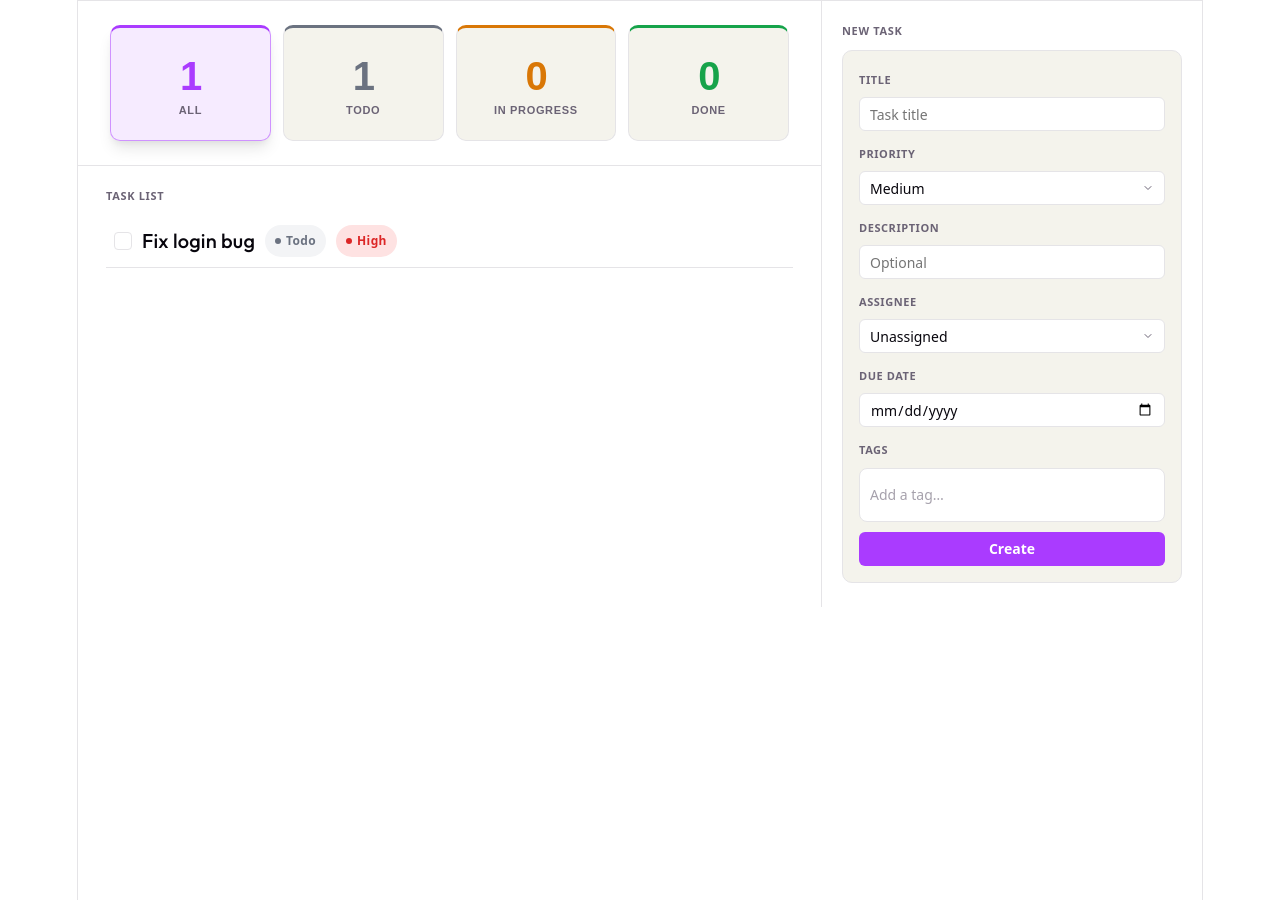
Test: TaskListPage › status filter › shows an empty state when no tasks match the selected status
Check: the link "Fix login bug" is shown, box [142,228,255,254]
Click the button "0 Done" at (709, 83), box [628,25,789,141]
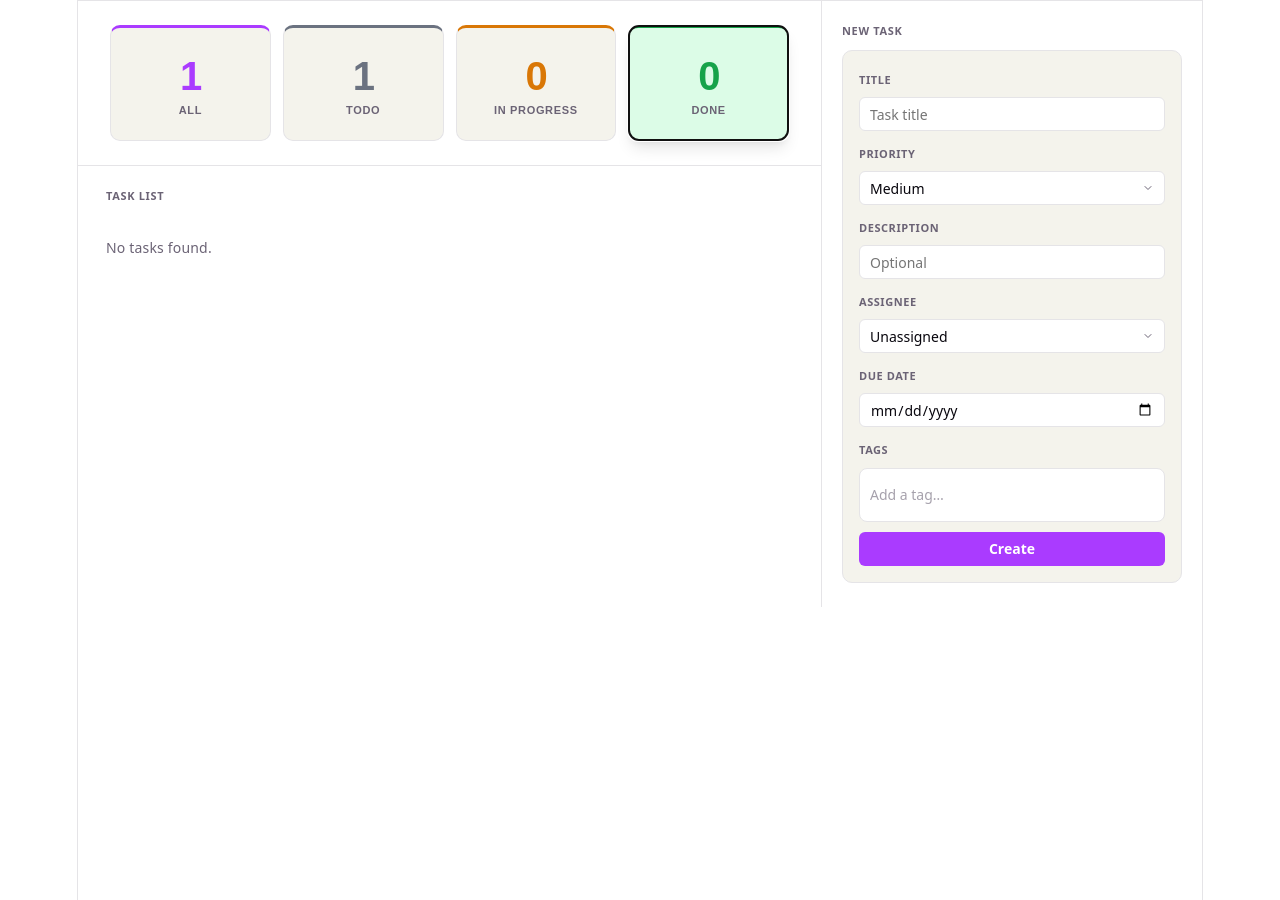
Check: the text "No tasks found." is shown, box [106,238,212,257]
